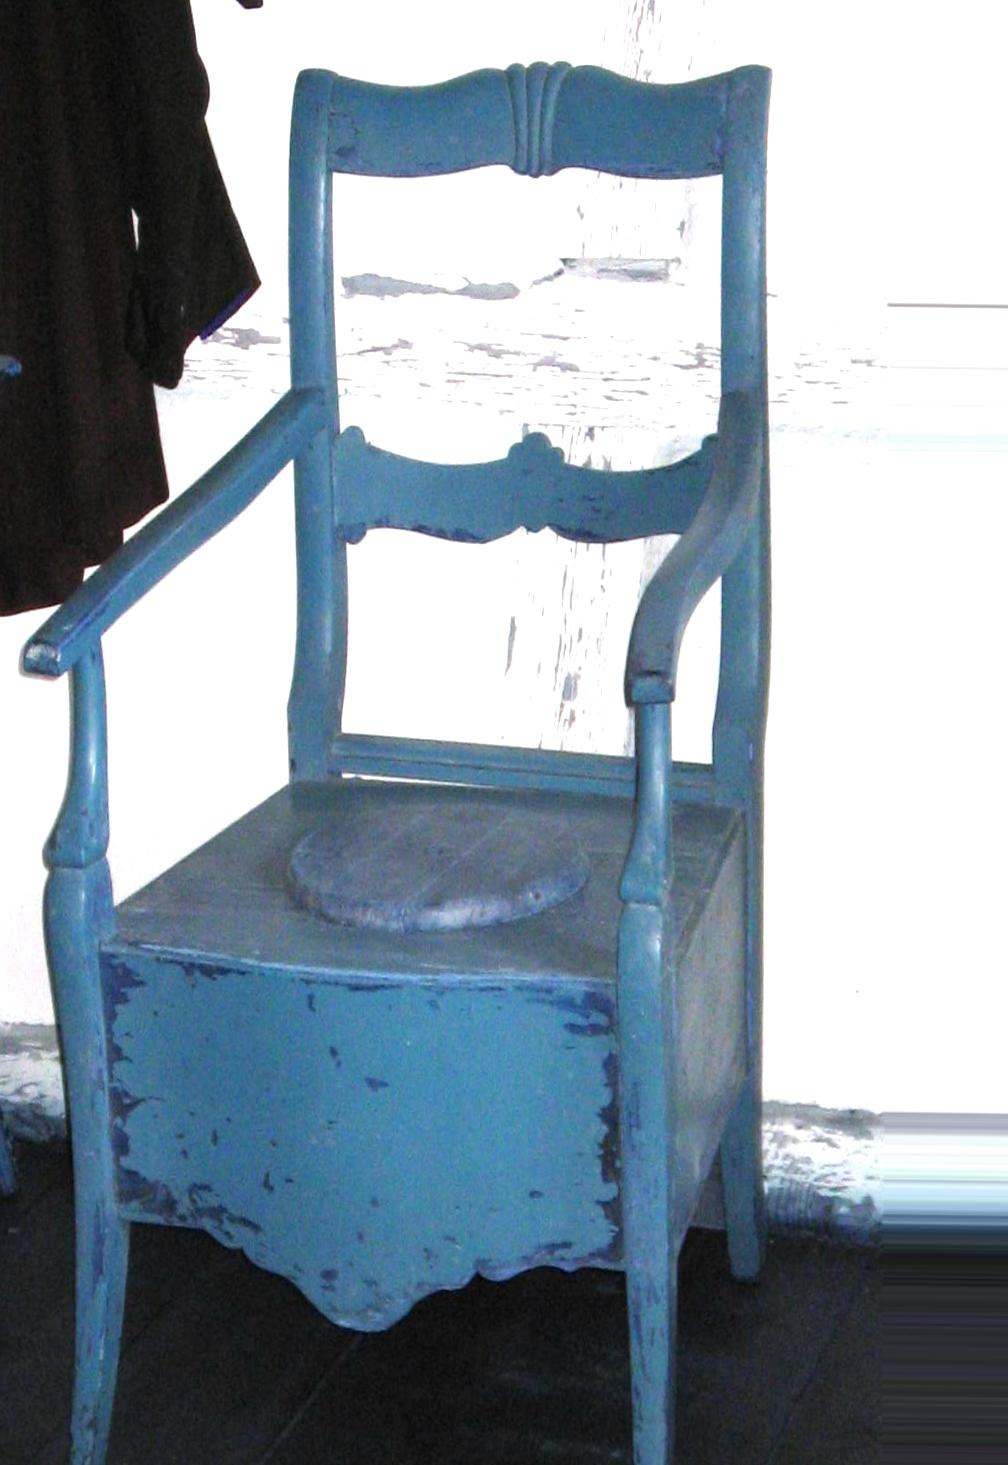chair: (19, 62, 776, 1464)
